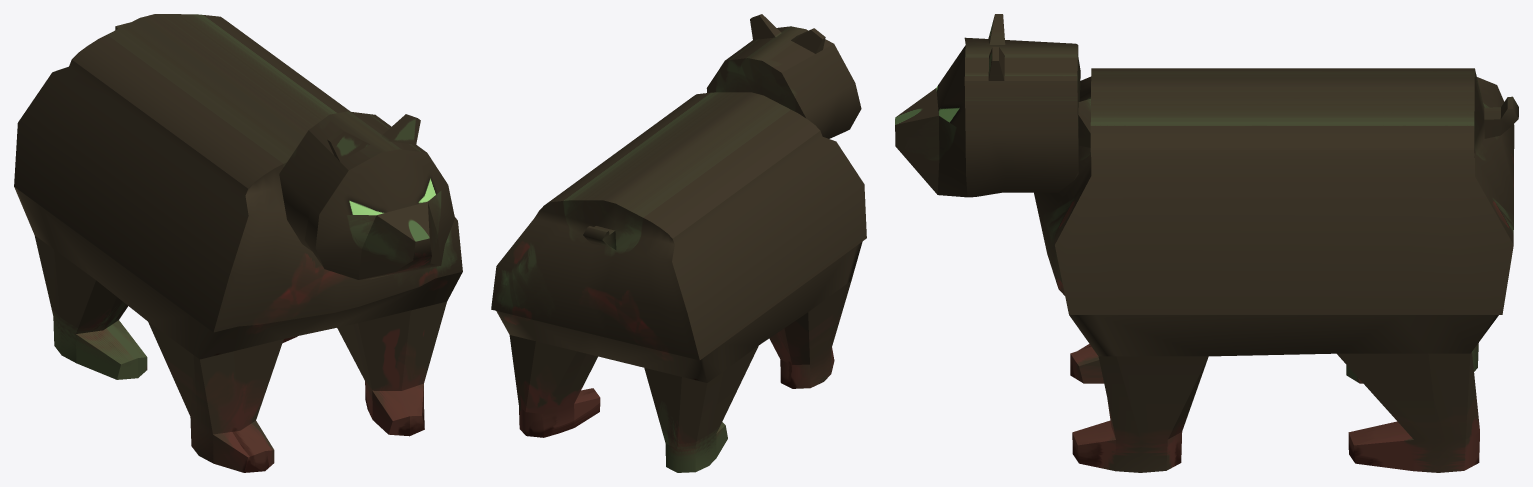
Rendered from Bear.fbx.
3 views of the same model, side by side, from view 1: azimuth 30°, elevation 25°; view 2: azimuth 150°, elevation 25°; view 3: azimuth 270°, elevation 25° (orthographic). The views are drawn at different scales.
Parts seen in each view (by area): view 1: Mesh_Monster1; view 2: Mesh_Monster1; view 3: Mesh_Monster1.
Boxes of the visible parts, bbox=[...] form: Mesh_Monster1: bbox=[14, 14, 462, 472]; Mesh_Monster1: bbox=[491, 14, 866, 472]; Mesh_Monster1: bbox=[895, 14, 1518, 472].
Bounding box in the file's own units: 2.05 × 2.79 × 4.08.
